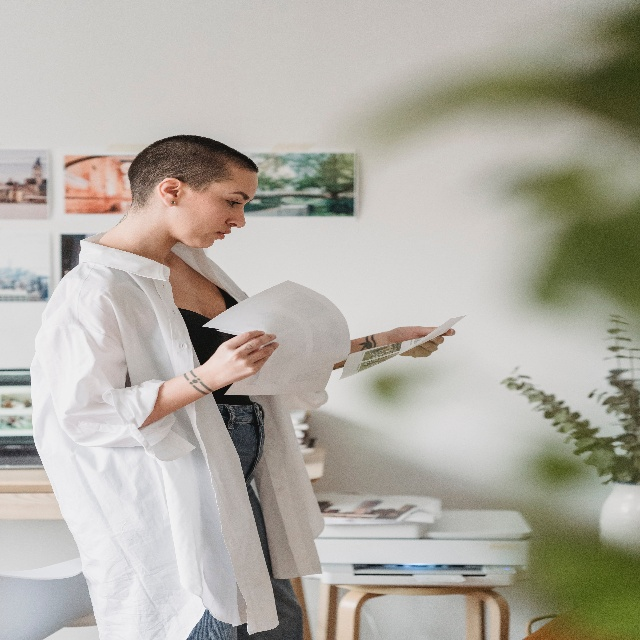Sin_guantes: (209, 330, 279, 387), (388, 326, 456, 358)
